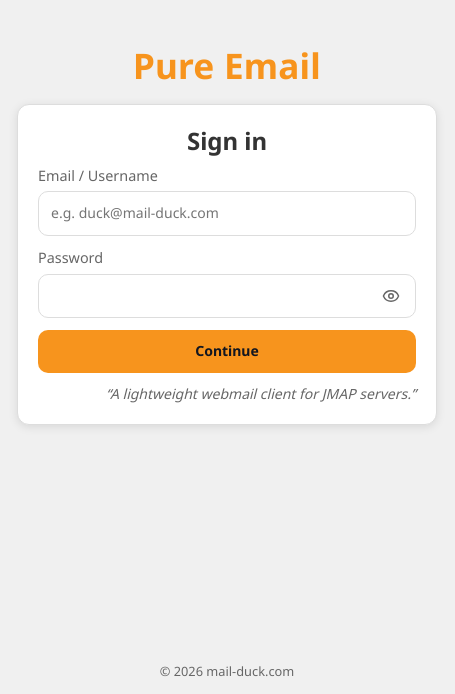
Test case: LoginPage › shows safe, actionable error message: server
The image size is (455, 694).
Type "duck@mail-duck.com" into the field labelled "Email / Username".
click(227, 214); type("duck@mail-duck.com")  # box top-left (38, 191), bottom-right (416, 236)
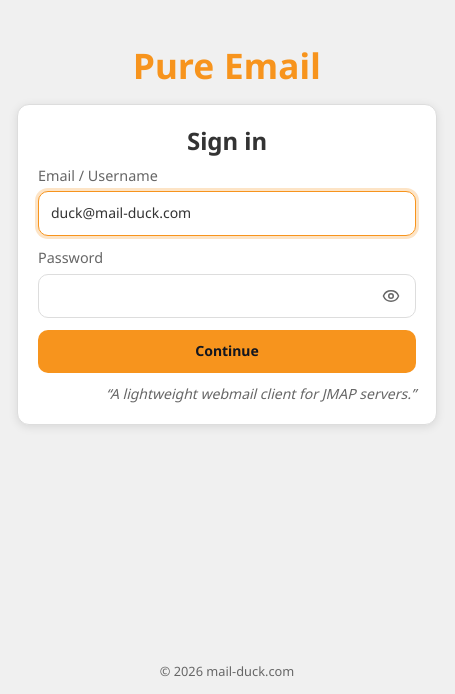
Type "pw" into the password field labelled "Password".
click(227, 296); type("pw")  # box top-left (38, 274), bottom-right (416, 318)
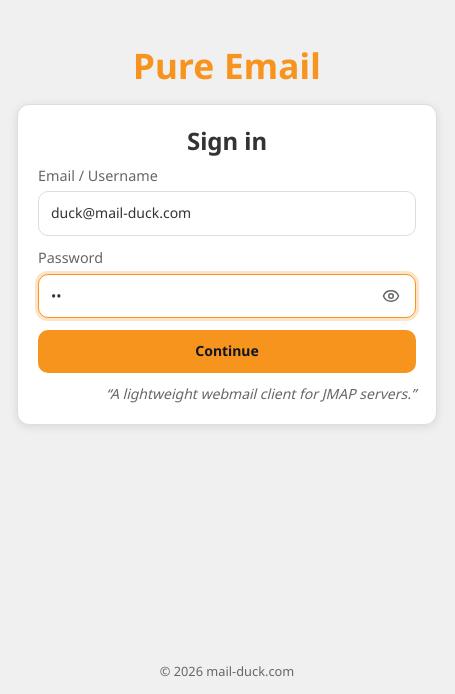
Click the button "Continue".
click(227, 352)  # box top-left (38, 330), bottom-right (416, 373)
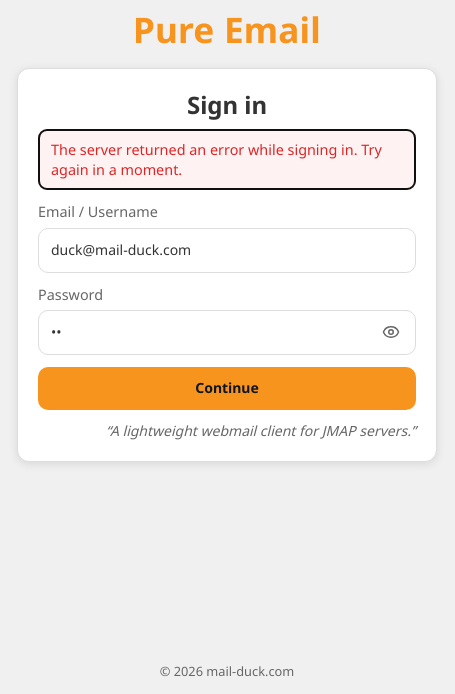
Check: the message "The server returned an error while signing in. Try again in a moment." is shown, box top-left (38, 129), bottom-right (416, 190)
Check: the message shows "server returned an error", box top-left (51, 140), bottom-right (382, 179)
